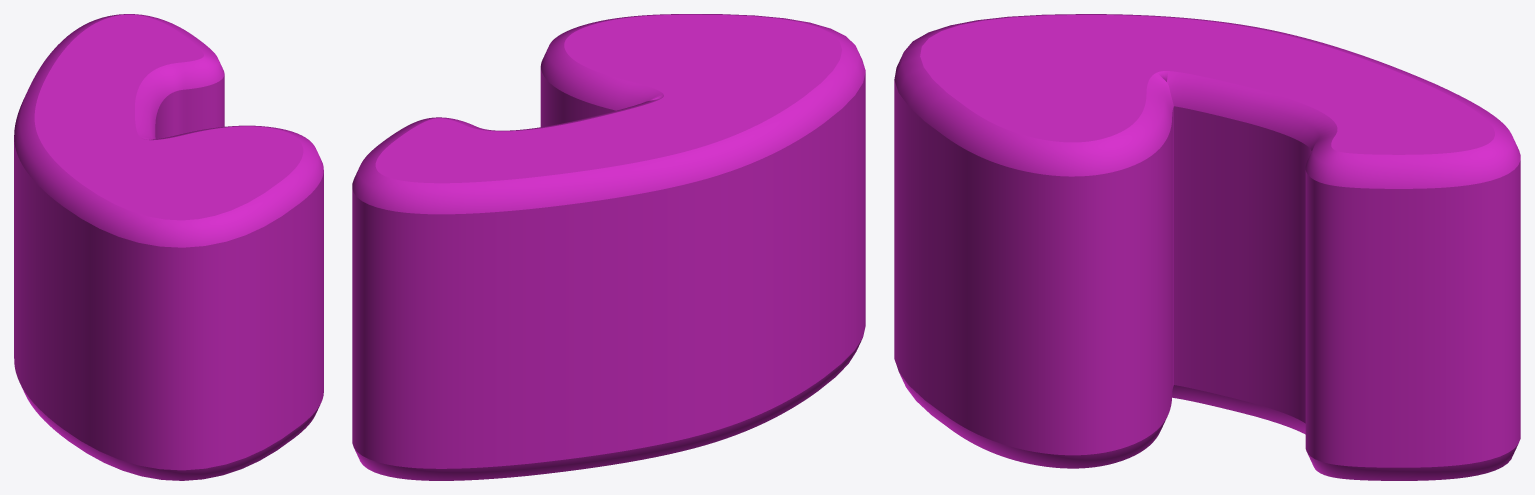
The model's file is Comma.fbx.
3 views of the same model, side by side, from view 1: azimuth 30°, elevation 25°; view 2: azimuth 150°, elevation 25°; view 3: azimuth 270°, elevation 25° (orthographic). The views are drawn at different scales.
Parts seen in each view (by area): view 1: Comma; view 2: Comma; view 3: Comma.
Part boxes in pixels (x1,y1,x2,y2): Comma: (14,14,323,480); Comma: (352,14,865,480); Comma: (894,14,1520,480).
Size of the model in its own units: 0.1492 by 0.14 by 0.2443.
